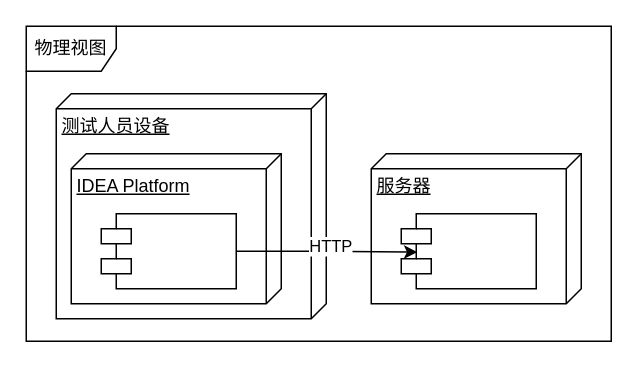
Image size: 638x368. Some labels were removed from this diagram. Here are the shapes that lost their labels. From the top down, the centre of each, then its label:
At (x=168, y=250): "插件端".
At (x=468, y=250): "服务端".
